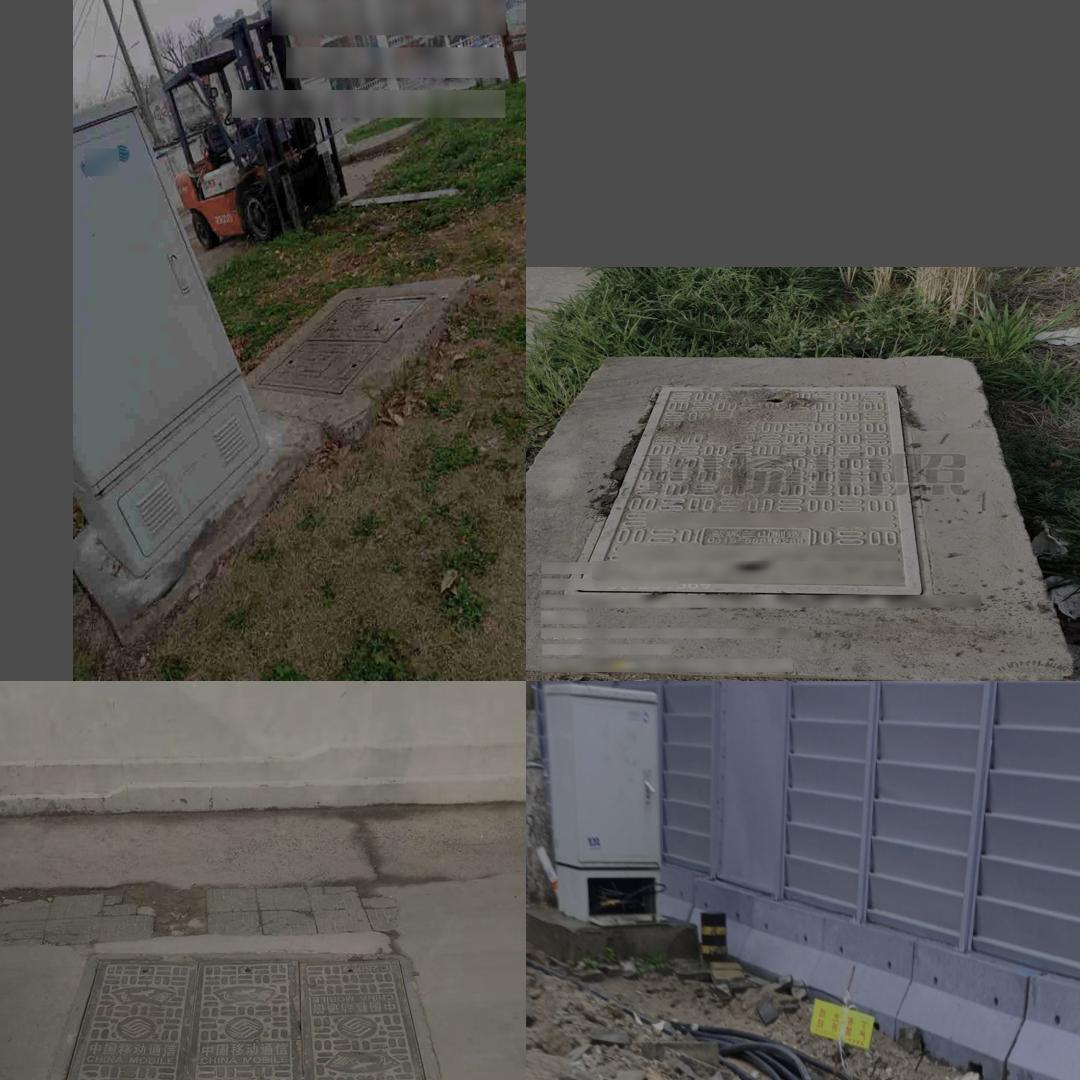good: (600, 356, 939, 602), (35, 952, 447, 1080), (250, 292, 429, 398)
